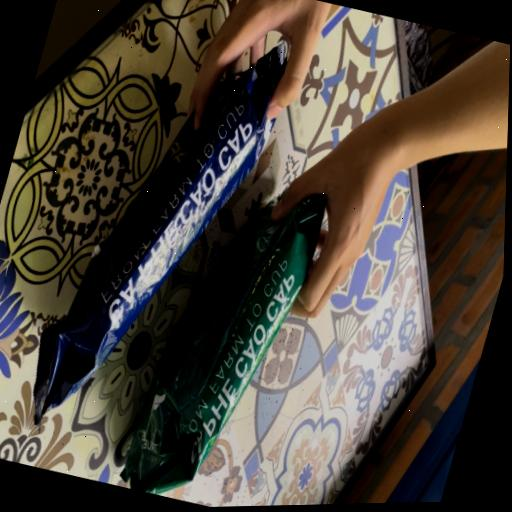cafe_hat: (33, 45, 285, 423)
cafe_xay: (121, 195, 324, 495)
